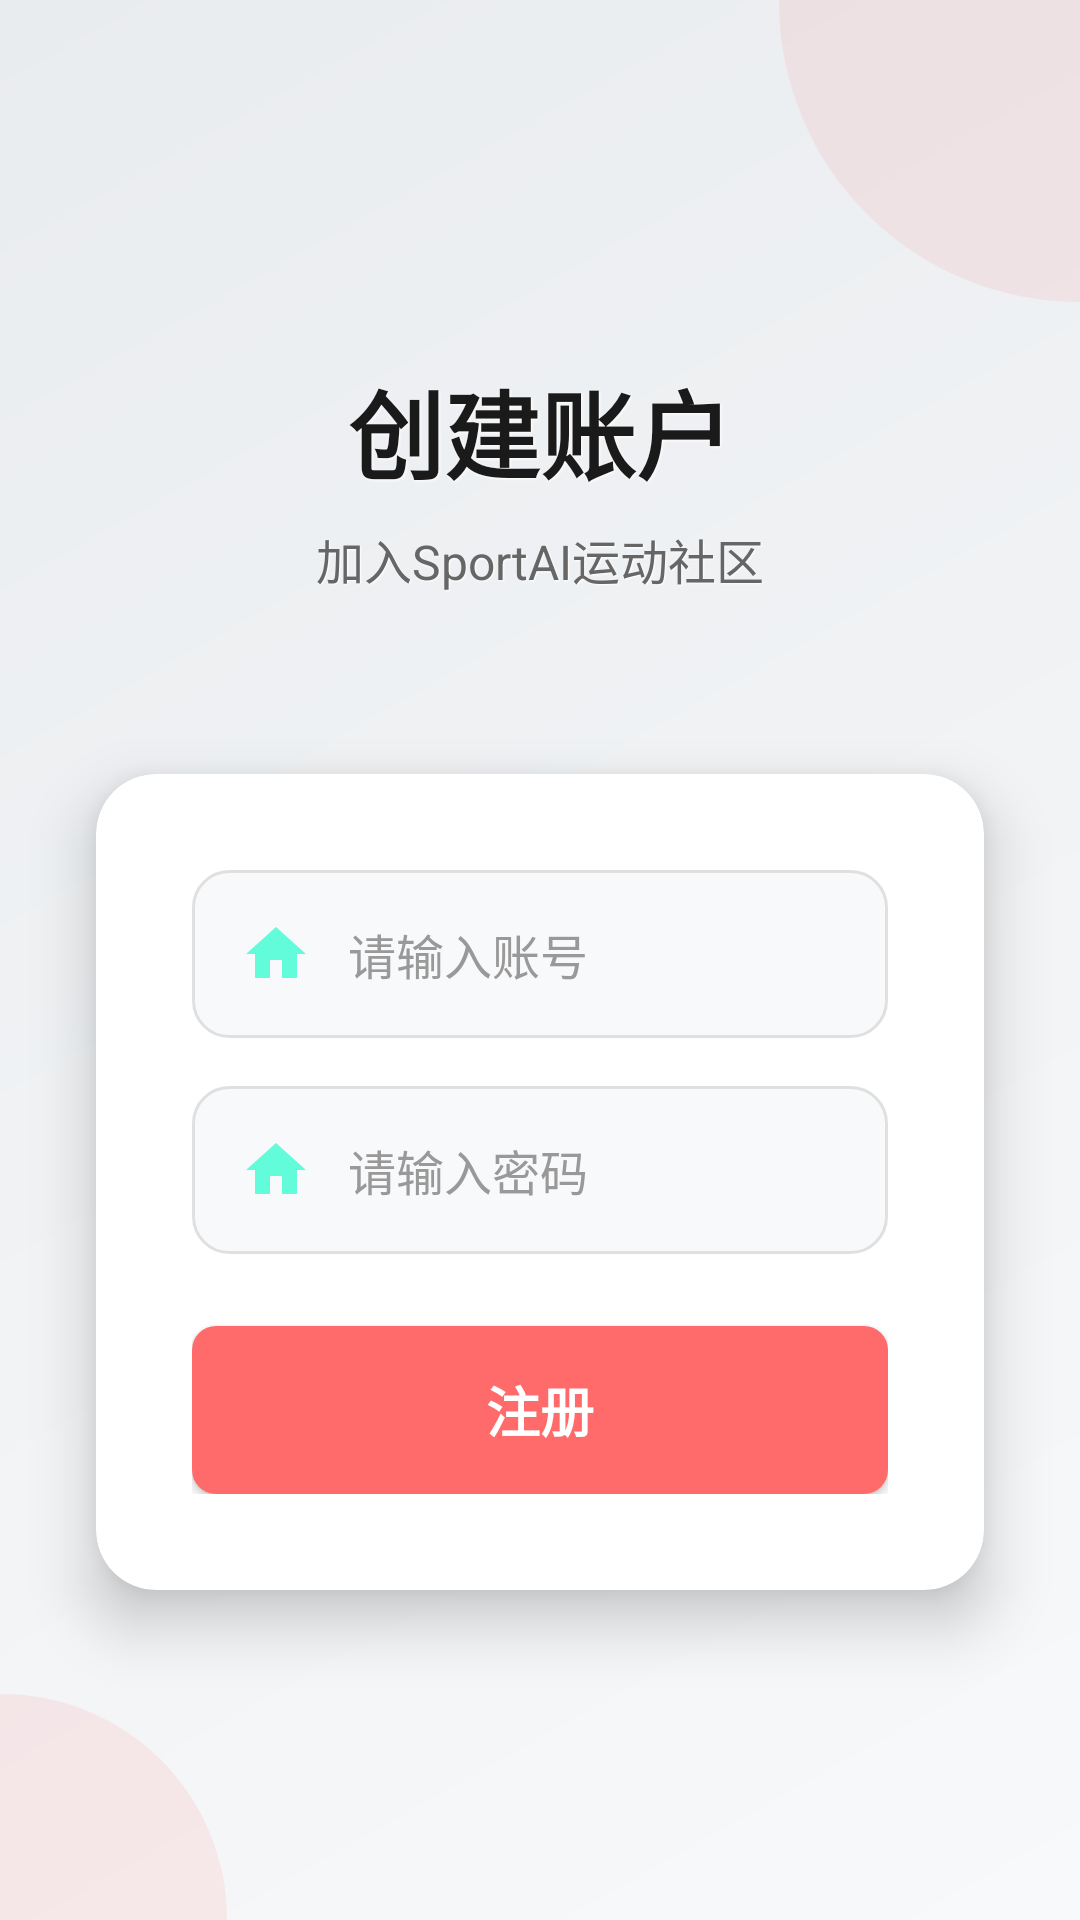

Screen size 1080w x 1920h. Icon name, then its box in pixels as (x1, y1, x2, y2):
home: (246, 927, 306, 978), (246, 1143, 306, 1194)
